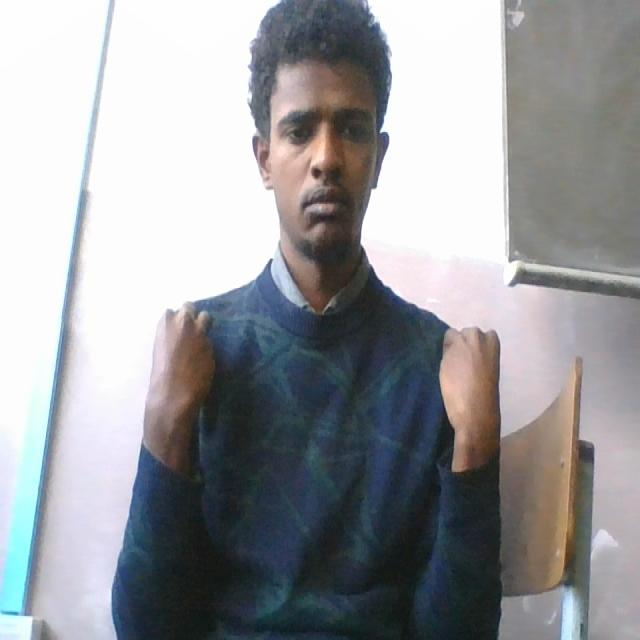tena_ystilgn: (140, 289, 509, 572)
